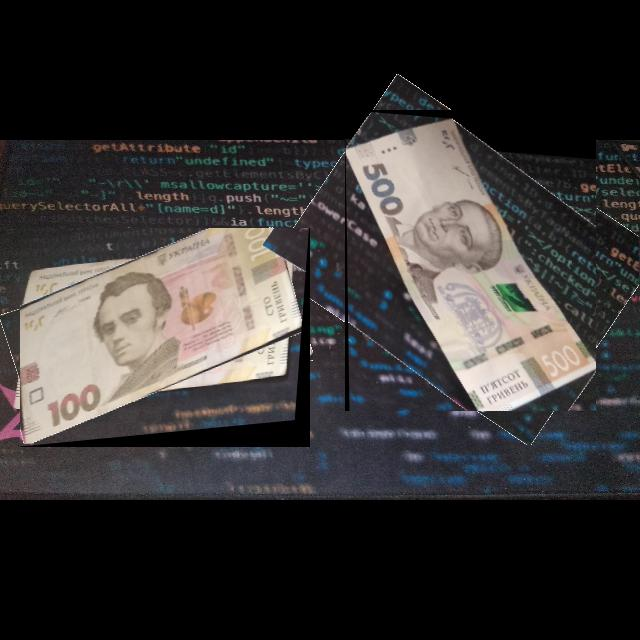100uah: (20, 228, 304, 447)
500uah: (346, 117, 597, 412)
